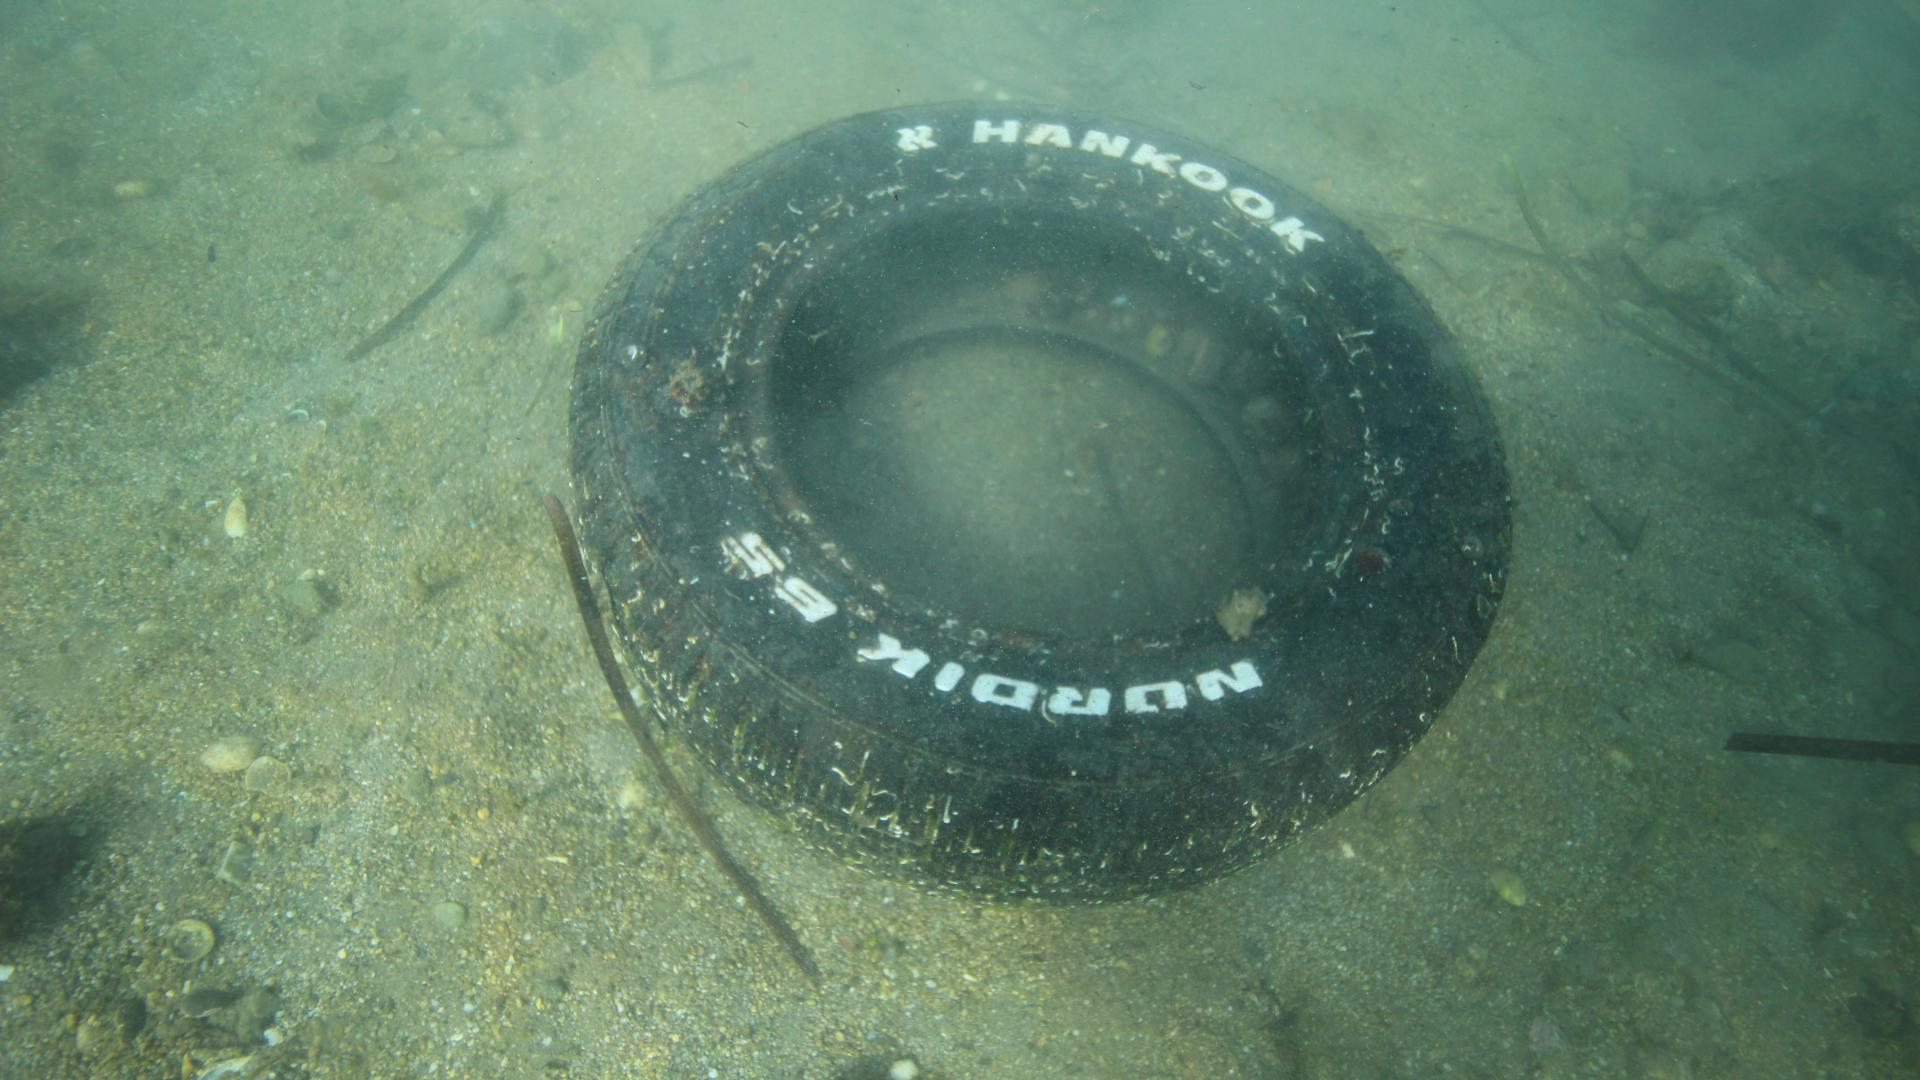tire: (576, 98, 1513, 903)
